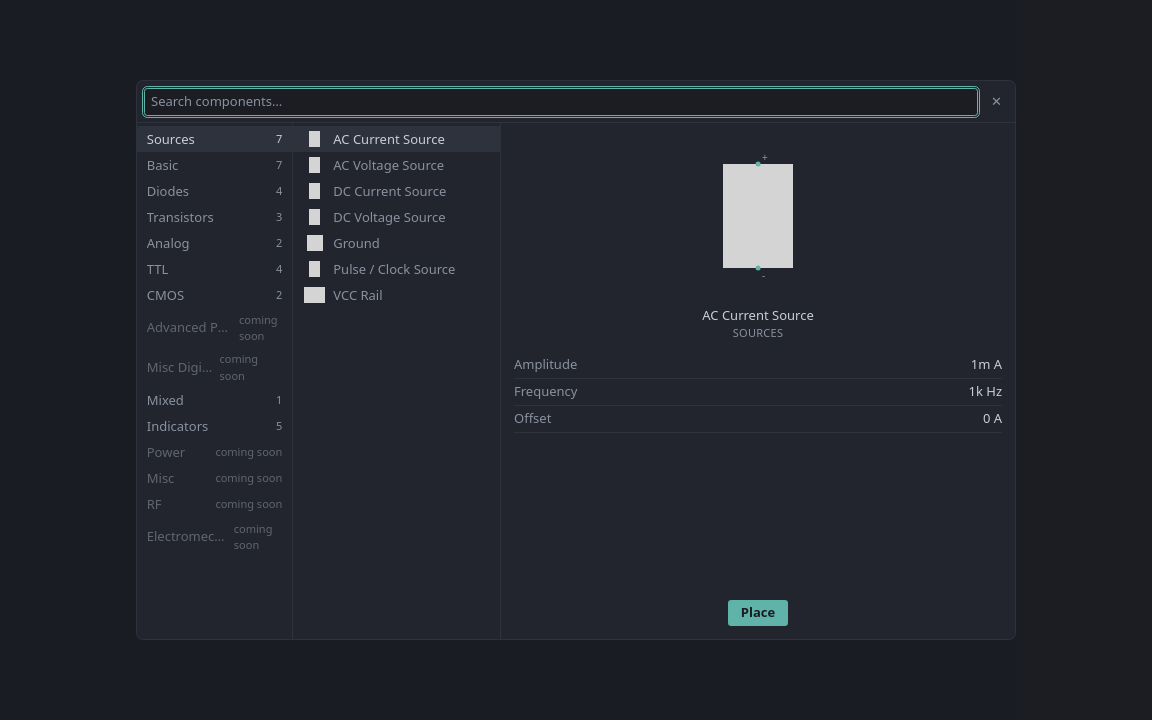
ComponentBrowser › says when nothing matches
This screenshot has width=1152, height=720.
Type "zzz" into the field with placeholder "Search components…".
click(561, 102); type("zzz")  # box top-left (144, 88), bottom-right (978, 116)
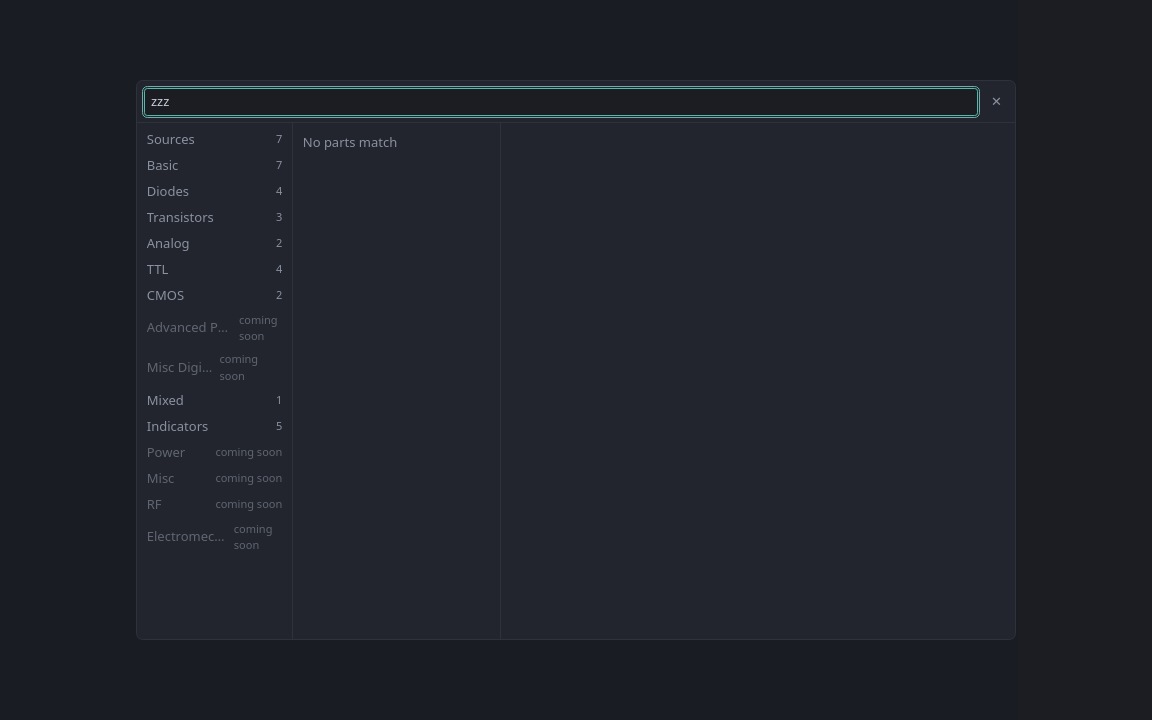
Check: the list item "No parts match" is shown, box top-left (303, 133), bottom-right (397, 151)
